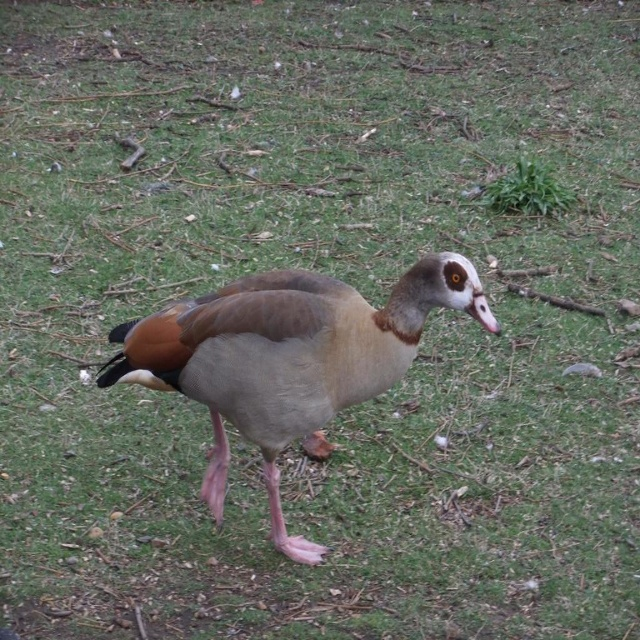Goose: (86, 271, 508, 590)
